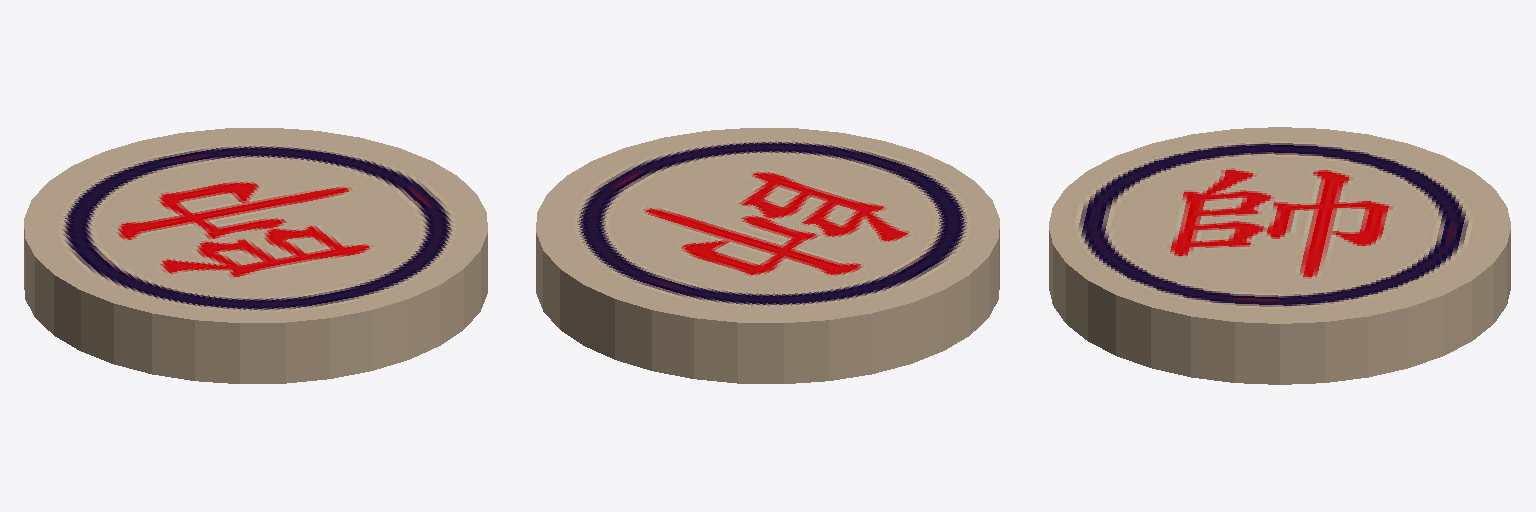
The picture shows the model from 3 angles: view 1: azimuth 30°, elevation 25°; view 2: azimuth 150°, elevation 25°; view 3: azimuth 270°, elevation 25°; orthographic projection.
Visible parts, largest first — view 1: Cylinder; view 2: Cylinder; view 3: Cylinder.
Part boxes in pixels (x1,y1,x2,y2): Cylinder: (24,128,487,383); Cylinder: (536,128,999,383); Cylinder: (1049,127,1510,384).
Bounding box in the file's own units: 0.3145 × 0.0454 × 0.3123.
1 materials, 1 textured.